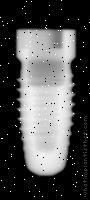Nobel Biocare: (11, 29, 78, 179)
